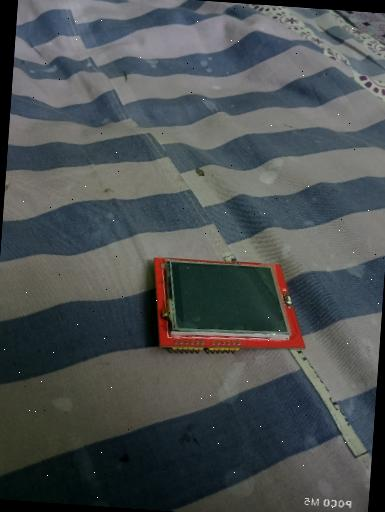Display: (145, 251, 312, 364)
